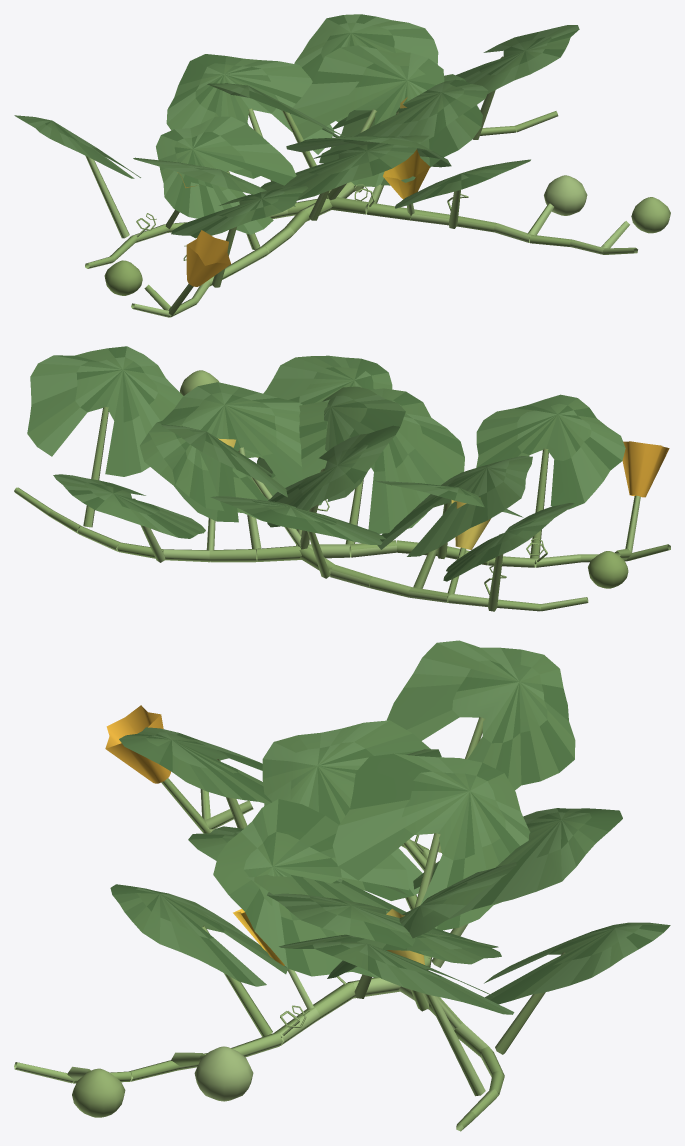
Rendered from melon_jaune_fruits.glb.
3 views of the same model, one above another, from view 1: azimuth 30°, elevation 25°; view 2: azimuth 150°, elevation 25°; view 3: azimuth 270°, elevation 25° (orthographic). The views are drawn at different scales.
Parts seen in each view (by area): view 1: Melon_Feuilles, Melon_Tiges, Melon_Fruits, Melon_Fleurs; view 2: Melon_Feuilles, Melon_Tiges, Melon_Fleurs, Melon_Fruits; view 3: Melon_Feuilles, Melon_Tiges, Melon_Fruits, Melon_Fleurs.
Part boxes in pixels (x1,y1,x2,y2): Melon_Feuilles: (14, 14, 579, 238); Melon_Tiges: (85, 56, 637, 317); Melon_Fruits: (104, 175, 670, 295); Melon_Fleurs: (177, 97, 429, 286); Melon_Feuilles: (27, 346, 625, 581); Melon_Tiges: (14, 407, 670, 611); Melon_Fleurs: (218, 438, 669, 549); Melon_Fruits: (180, 370, 628, 588); Melon_Feuilles: (110, 640, 670, 1014); Melon_Tiges: (14, 717, 565, 1131); Melon_Fruits: (72, 1046, 253, 1117); Melon_Fleurs: (105, 705, 424, 965).
Bounding box in the file's own units: 1.16 × 0.2931 × 0.9387.
